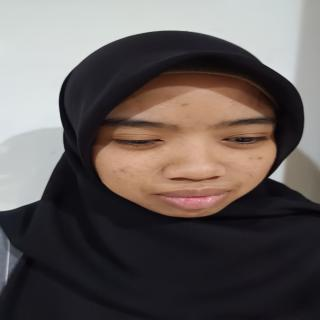Sedih: (81, 64, 289, 228)
